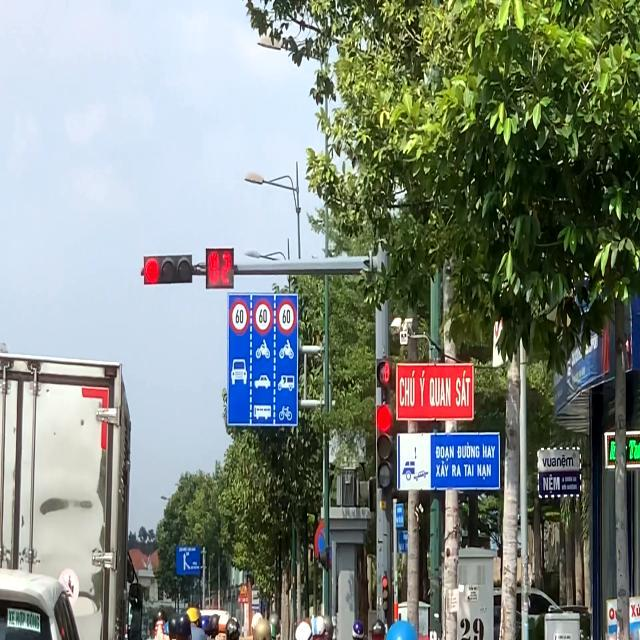Toc do toi da cho phep: (252, 299, 274, 337), (230, 300, 250, 336), (277, 298, 296, 335)
